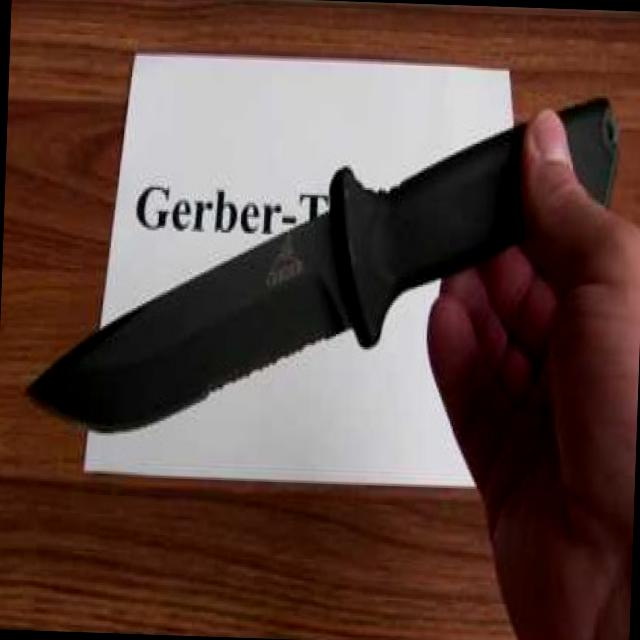knife: (4, 89, 567, 482)
